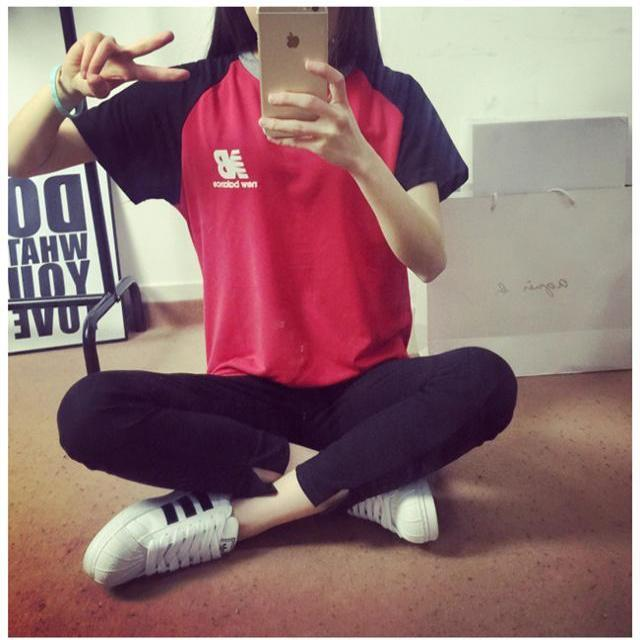short-sleeve-top: (112, 44, 491, 352)
trousers: (61, 354, 534, 494)
